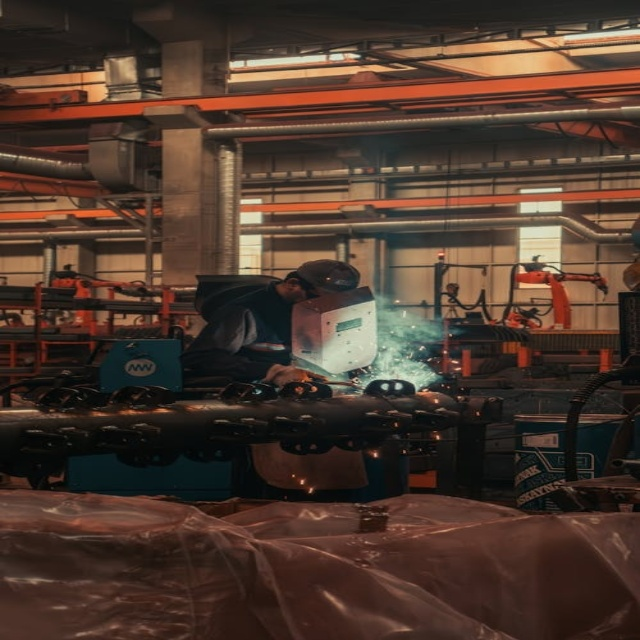Gafas: (291, 279, 320, 301)
Guantes: (259, 359, 330, 387)
